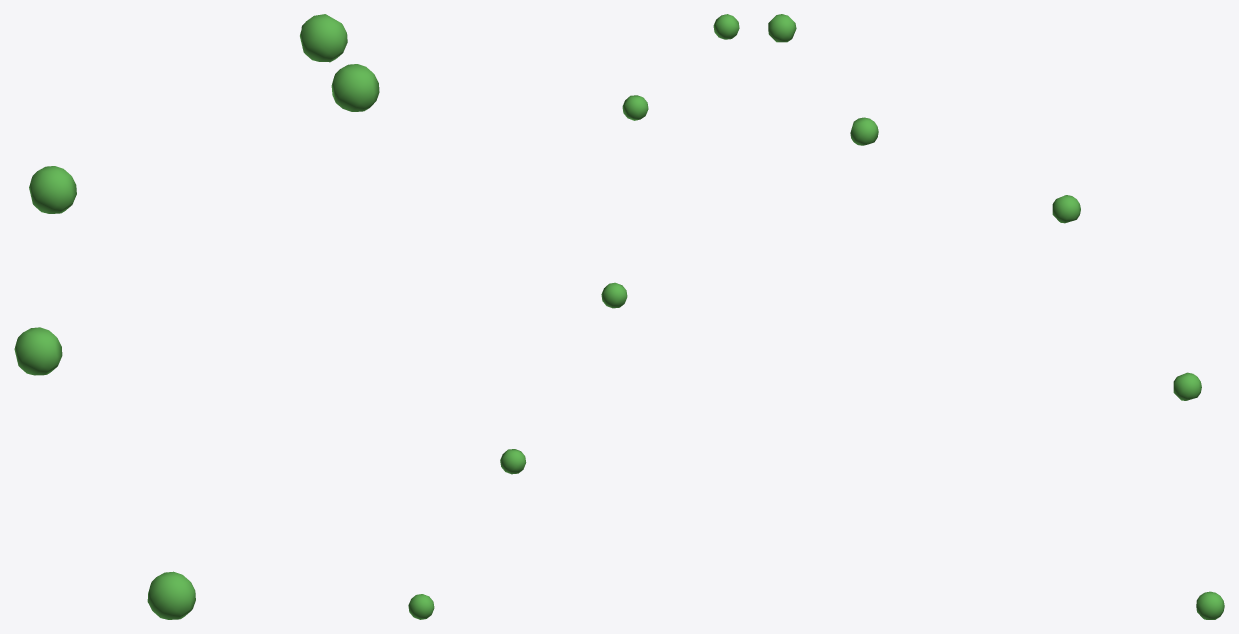
Rendered from linfatico-lateral-sacral-nodes-r.glb.
3 renders of one model, left to right at view 1: azimuth 30°, elevation 25°; view 2: azimuth 150°, elevation 25°; view 3: azimuth 270°, elevation 25°, orthographic. The views are drawn at different scales.
Parts seen in each view (by area): view 1: Lateral sacral nodes.r; view 2: Lateral sacral nodes.r; view 3: Lateral sacral nodes.r.
Part boxes in pixels (x1,y1,x2,y2): Lateral sacral nodes.r: (14, 14, 379, 619); Lateral sacral nodes.r: (408, 14, 739, 619); Lateral sacral nodes.r: (768, 14, 1224, 619).
Size of the model in its own units: 0.0171 by 0.0531 by 0.0405.
